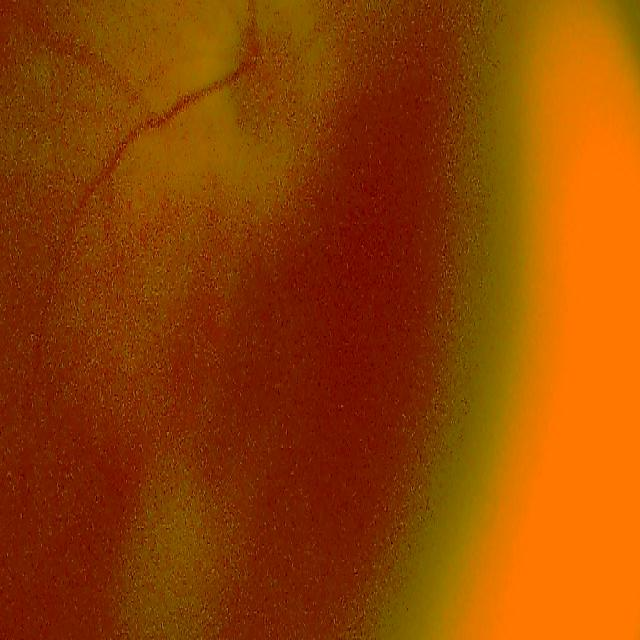optic-nerve: (217, 0, 315, 162)
